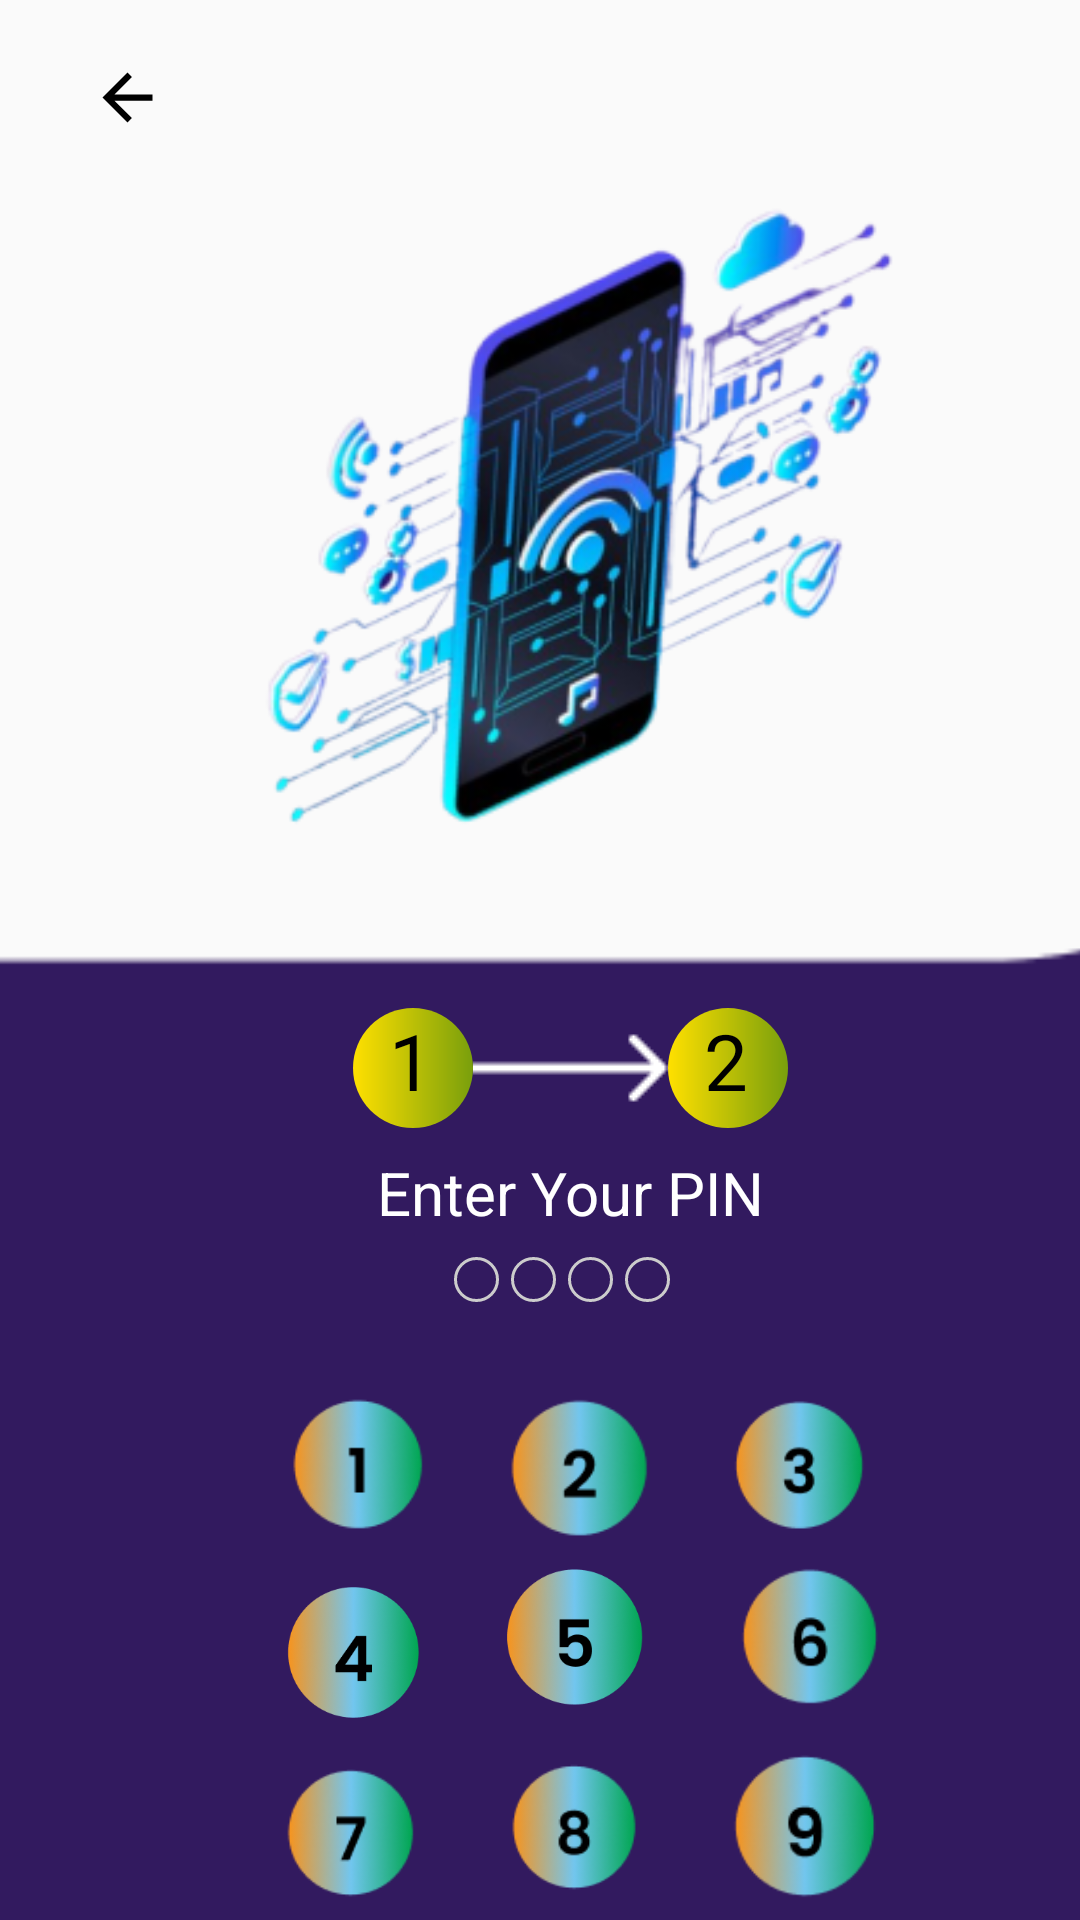

Named icons in this screenshot (1080px x 1920px) and their centers, (x,y):
arrow back: (127,97)
whitearrow: (570,1068)
